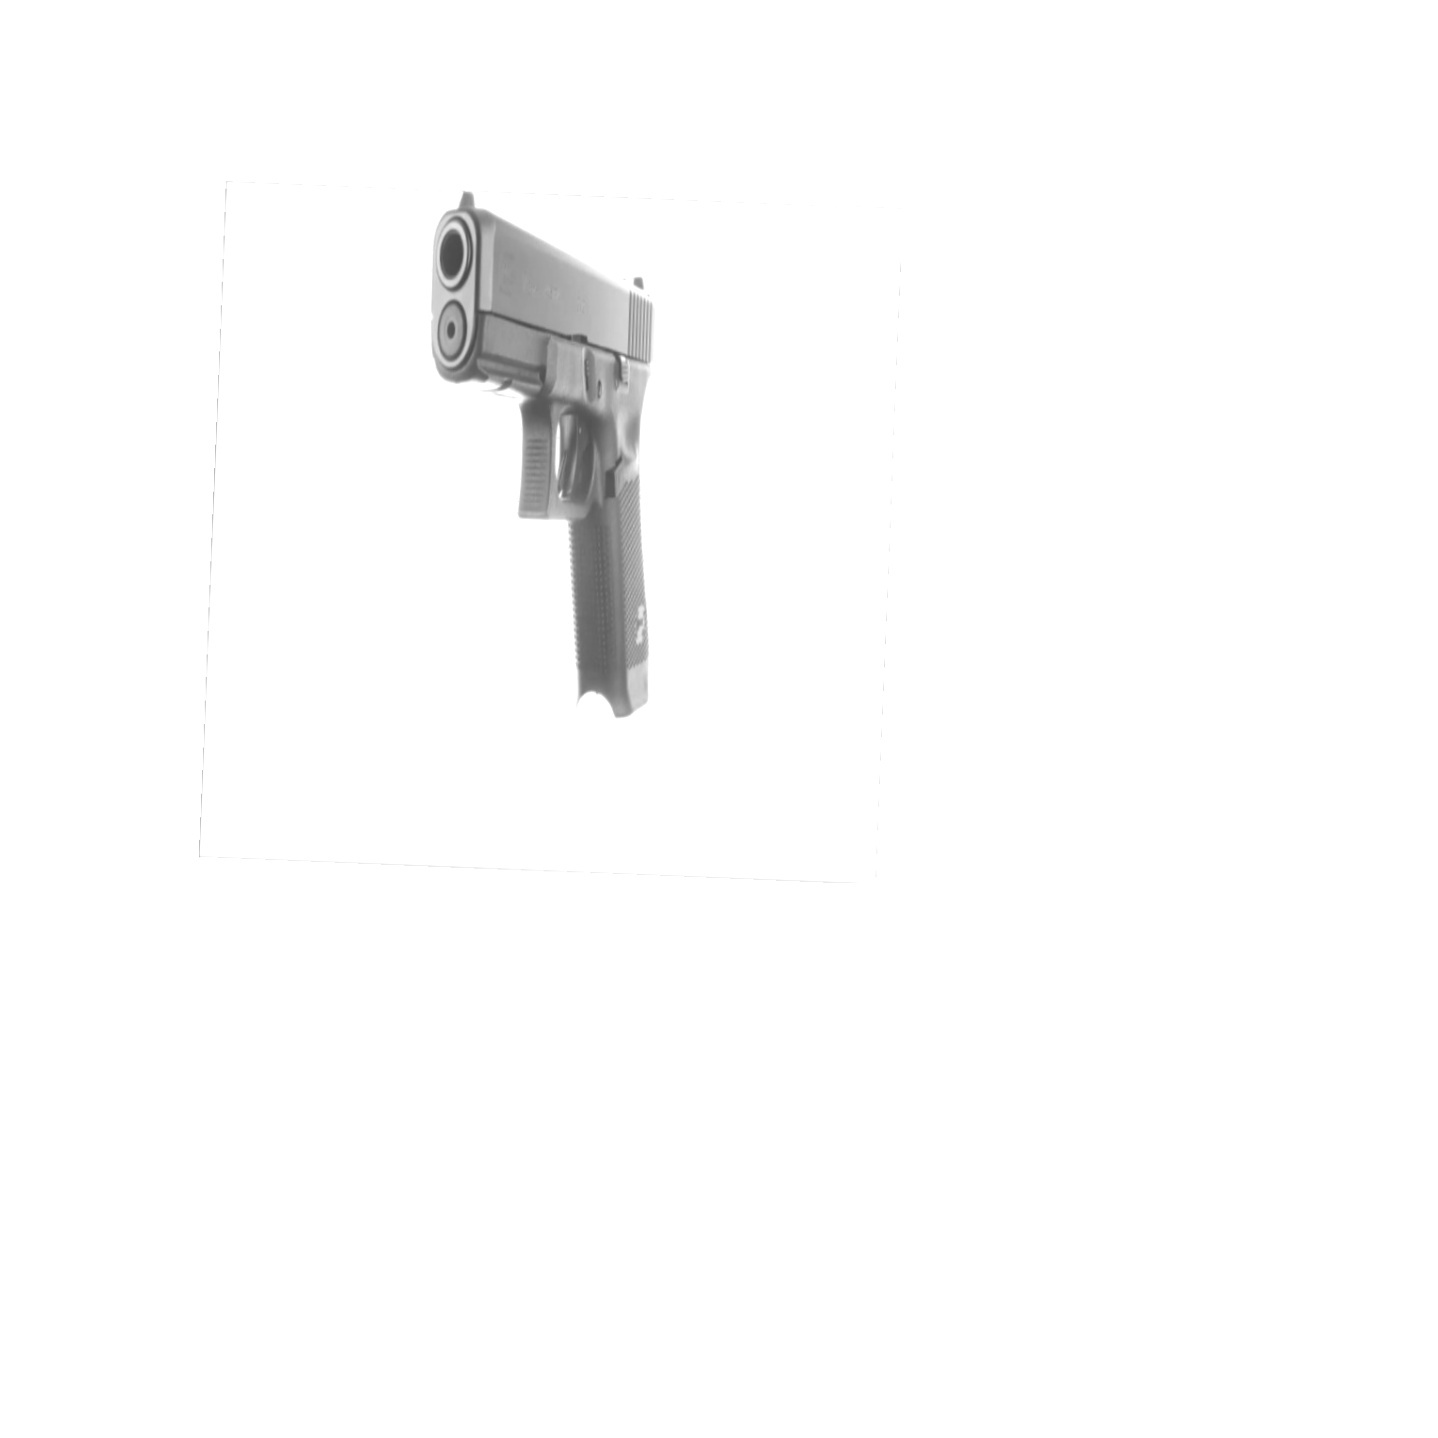gun: (431, 192, 654, 716)
